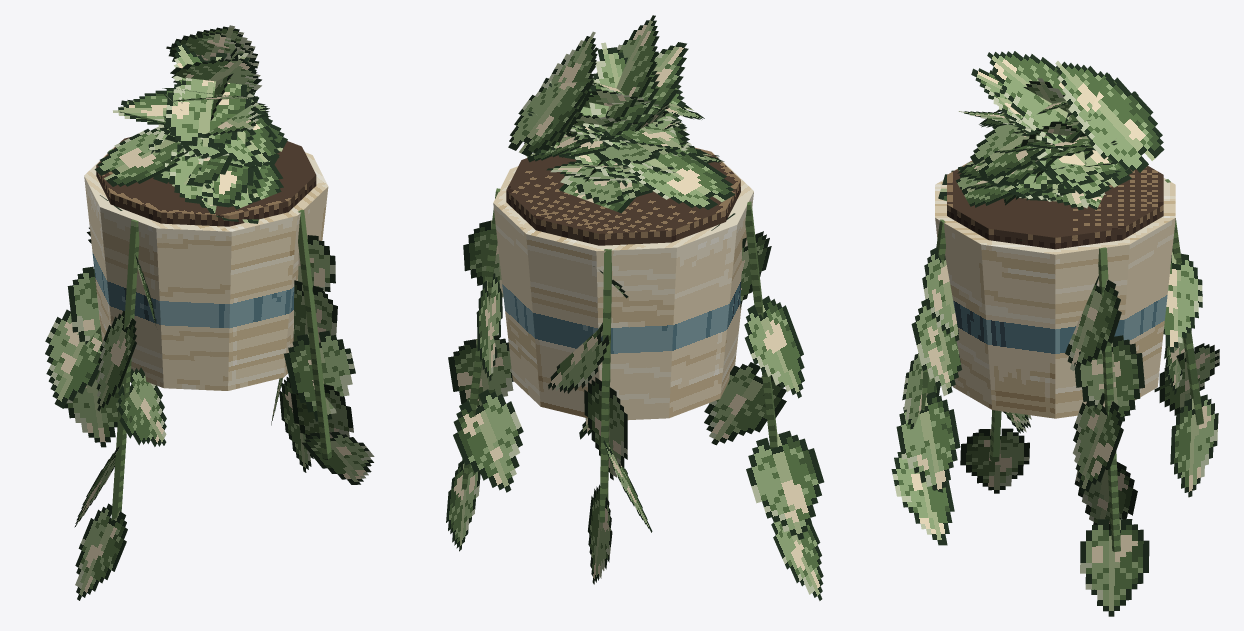
The model's file is plant_pothos.glb.
3 renders of one model, left to right at view 1: azimuth 30°, elevation 25°; view 2: azimuth 150°, elevation 25°; view 3: azimuth 270°, elevation 25°, orthographic. The views are drawn at different scales.
Parts seen in each view (by area): view 1: pot, soil, leaf_6, leaf_53, leaf_42, leaf_59, leaf_13, leaf_57, leaf_1, vine, leaf_56, vine_3 (+18 smaller); view 2: pot, soil, leaf_58, leaf_48, leaf_56, leaf_57, leaf_13, leaf_14, leaf_15, leaf_47, leaf_59, vine_2 (+21 smaller); view 3: pot, soil, leaf_14, leaf_49, leaf_43, leaf_15, leaf_47, leaf_54, leaf_46, leaf_59, leaf_45, leaf_44 (+23 smaller).
Part boxes in pixels (bbox=[...]): pot: bbox=[84, 146, 328, 390]; soil: bbox=[96, 137, 316, 226]; leaf_6: bbox=[165, 52, 251, 147]; leaf_53: bbox=[45, 309, 102, 408]; leaf_42: bbox=[284, 330, 355, 421]; leaf_59: bbox=[75, 503, 127, 600]; leaf_13: bbox=[94, 126, 187, 186]; leaf_57: bbox=[117, 367, 166, 446]; leaf_1: bbox=[164, 144, 253, 207]; vine: bbox=[298, 209, 331, 459]; leaf_56: bbox=[96, 310, 136, 411]; vine_3: bbox=[111, 219, 139, 520]; pot: bbox=[493, 159, 753, 420]; soil: bbox=[506, 147, 740, 245]; leaf_58: bbox=[746, 430, 824, 539]; leaf_48: bbox=[453, 389, 523, 492]; leaf_56: bbox=[744, 296, 804, 398]; leaf_57: bbox=[704, 362, 786, 445]; leaf_13: bbox=[623, 150, 734, 209]; leaf_14: bbox=[508, 47, 598, 156]; leaf_15: bbox=[591, 15, 659, 126]; leaf_47: bbox=[448, 335, 513, 407]; leaf_59: bbox=[771, 517, 823, 600]; vine_2: bbox=[599, 249, 611, 522]; pot: bbox=[935, 178, 1175, 418]; soil: bbox=[947, 160, 1163, 249]; leaf_14: bbox=[1082, 76, 1164, 172]; leaf_49: bbox=[1080, 519, 1149, 616]; leaf_43: bbox=[896, 391, 960, 492]; leaf_15: bbox=[987, 51, 1068, 142]; leaf_47: bbox=[1073, 393, 1123, 494]; leaf_54: bbox=[1170, 394, 1218, 497]; leaf_46: bbox=[1074, 335, 1144, 421]; leaf_59: bbox=[960, 428, 1029, 493]; leaf_45: bbox=[1065, 275, 1121, 370]; leaf_44: bbox=[891, 452, 954, 545].
Size of the model in its own units: 0.6041 by 0.9379 by 0.5558.
Materials: 2 (2 with a texture image).
